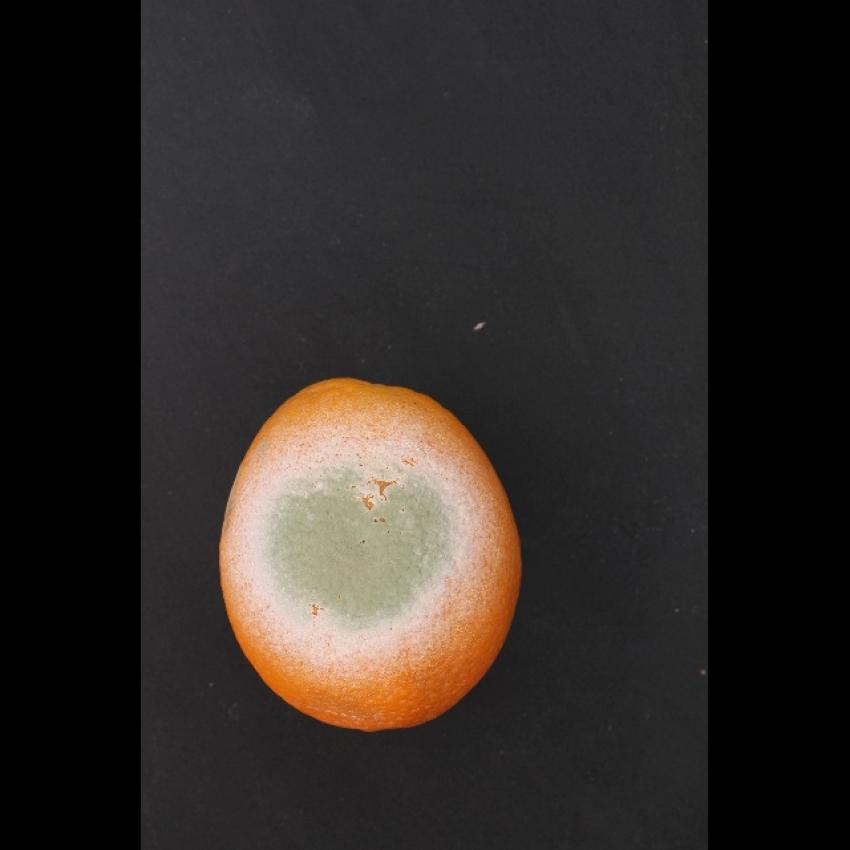Mal estado: (210, 361, 526, 743)
